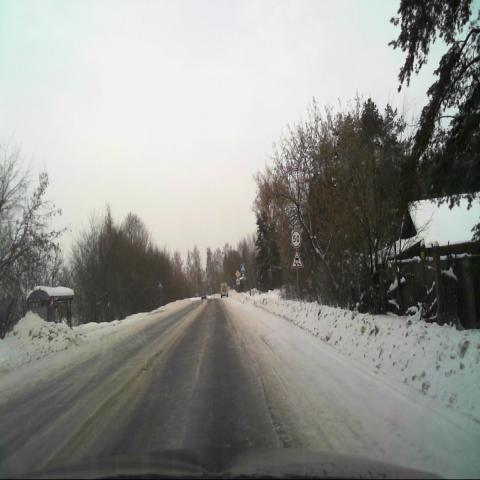1_15: (292, 248, 303, 268)
